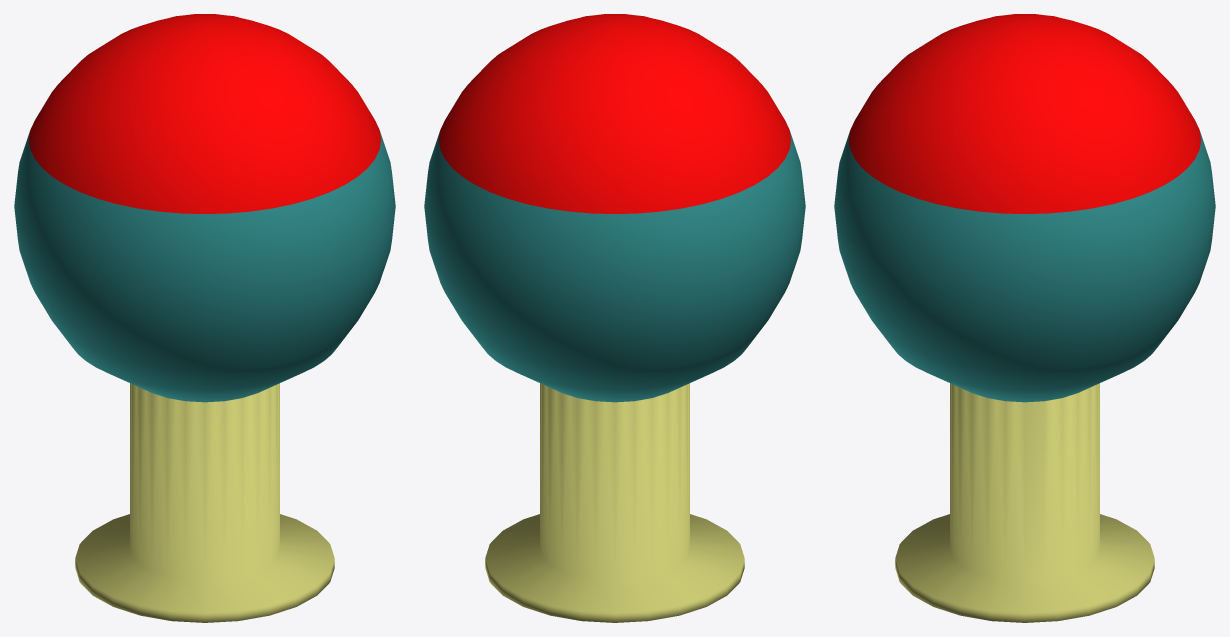
The model's file is Globe.obj.
The picture shows the model from 3 angles, left to right: view 1: azimuth 30°, elevation 25°; view 2: azimuth 150°, elevation 25°; view 3: azimuth 270°, elevation 25°; orthographic projection.
Visible parts, largest first — view 1: Terre, Pied; view 2: Terre, Pied; view 3: Terre, Pied.
Part boxes in pixels (<box>): Terre: <box>14,14,395,402</box>; Pied: <box>75,383,334,622</box>; Terre: <box>424,14,805,402</box>; Pied: <box>485,383,744,622</box>; Terre: <box>834,14,1215,402</box>; Pied: <box>895,383,1154,622</box>.
Size of the model in its own units: 0.2529 by 0.3939 by 0.2529.
